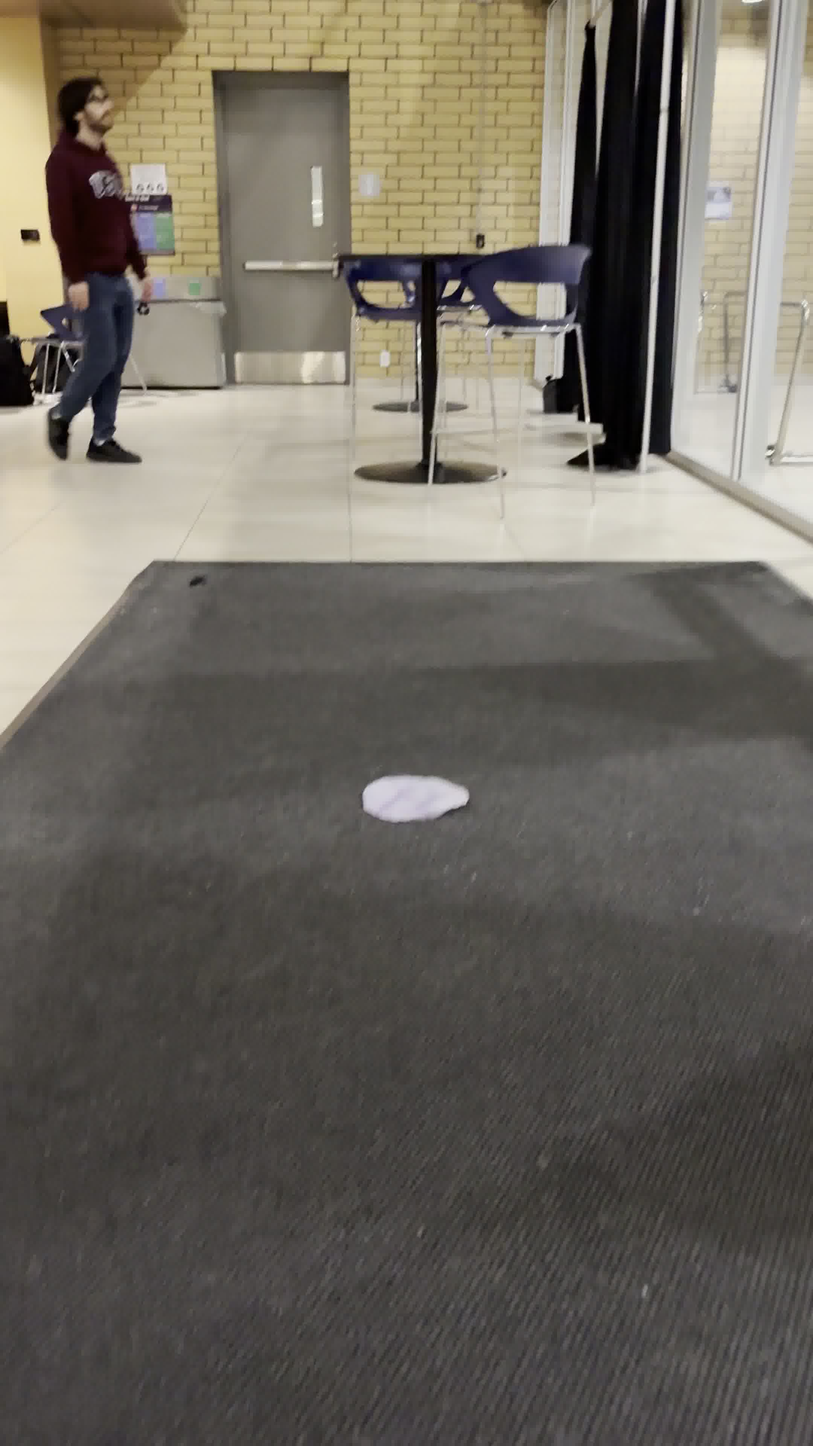Target: (356, 770, 473, 827)
